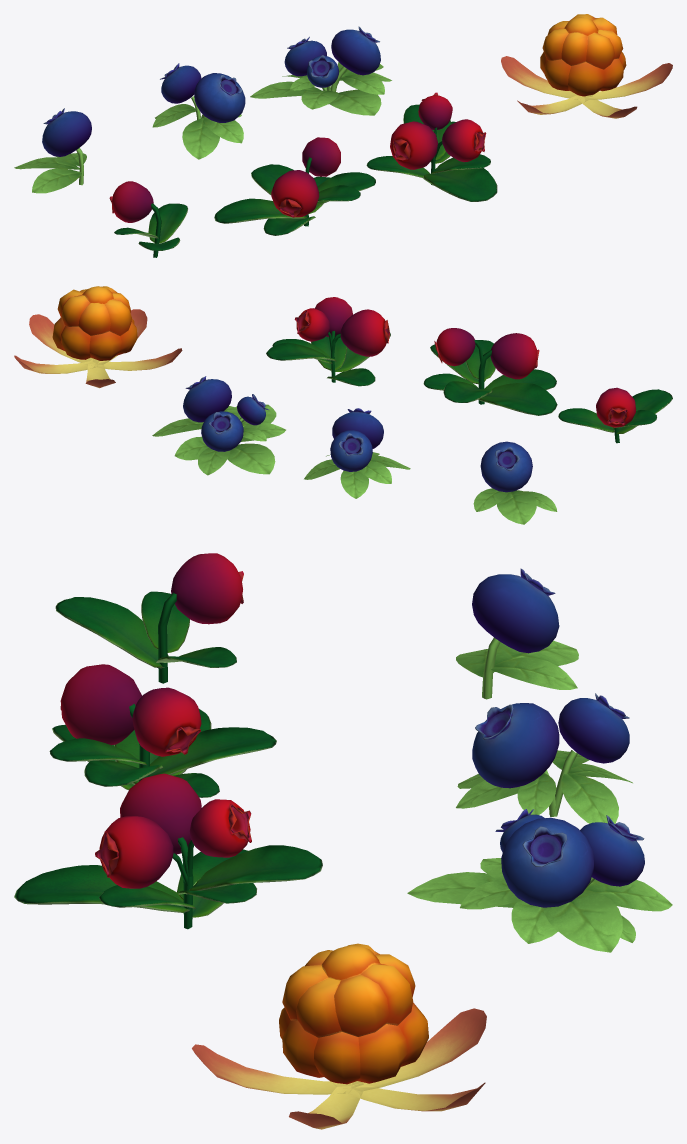
File: berries 2.fbx
3 renders of one model, top to bottom at view 1: azimuth 30°, elevation 25°; view 2: azimuth 150°, elevation 25°; view 3: azimuth 270°, elevation 25°, orthographic. The views are drawn at different scales.
Visible parts, largest first — view 1: cranberry_3, cranberry_2, Blueberry_3, cloudberry, Blueberry_2, Blueberry_1, cloudberry_leaves, Cranberry_1; view 2: cranberry_2, Blueberry_3, cranberry_3, cloudberry, Blueberry_2, Blueberry_1, Cranberry_1, cloudberry_leaves; view 3: cranberry_3, Blueberry_3, cloudberry, cranberry_2, Blueberry_2, Cranberry_1, cloudberry_leaves, Blueberry_1.
Part boxes in pixels (bbox=[...]): cranberry_3: bbox=[366, 92, 497, 201]; cranberry_2: bbox=[214, 137, 375, 235]; Blueberry_3: bbox=[250, 26, 391, 115]; cloudberry: bbox=[540, 14, 626, 96]; Blueberry_2: bbox=[152, 63, 245, 159]; Blueberry_1: bbox=[14, 108, 91, 193]; cloudberry_leaves: bbox=[501, 56, 672, 118]; Cranberry_1: bbox=[109, 181, 187, 257]; cranberry_2: bbox=[423, 328, 557, 415]; Blueberry_3: bbox=[152, 376, 285, 475]; cranberry_3: bbox=[266, 297, 390, 386]; cloudberry: bbox=[52, 286, 137, 360]; Blueberry_2: bbox=[304, 408, 410, 498]; Blueberry_1: bbox=[473, 441, 557, 524]; Cranberry_1: bbox=[558, 387, 672, 443]; cloudberry_leaves: bbox=[14, 309, 182, 388]; cranberry_3: bbox=[14, 773, 322, 929]; Blueberry_3: bbox=[407, 809, 672, 952]; cloudberry: bbox=[279, 943, 428, 1084]; cranberry_2: bbox=[49, 664, 276, 797]; Blueberry_2: bbox=[456, 693, 632, 823]; Cranberry_1: bbox=[55, 553, 243, 683]; cloudberry_leaves: bbox=[192, 1008, 486, 1129]; Blueberry_1: bbox=[456, 568, 578, 699].
Size of the model in its own units: 398 by 53.19 by 218.
Materials: 1 (1 with a texture image).
